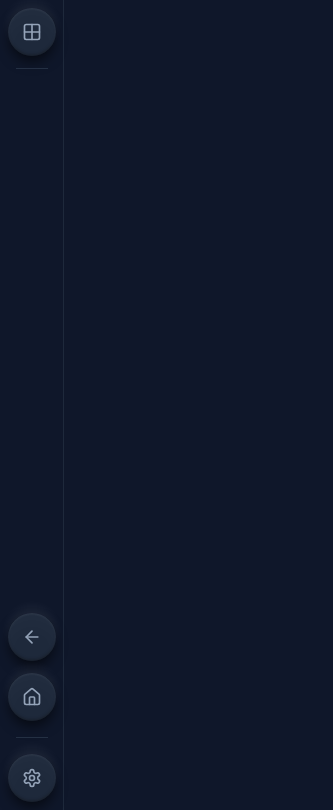
it: ControlSidebar 车机工效与视觉 Tokens 规范验收 › 展开设置二级弹窗拓宽至 w-64，且每个设置项均为 >= 48px List Row 整行触控
The width and height of the screenshot is (333, 810).
点击设置按钮展开面板
What coordinates should you click on to do the following:
click the button named "侧栏设置"
I would click on:
 (32, 778)
Its box is [8,754,56,802].
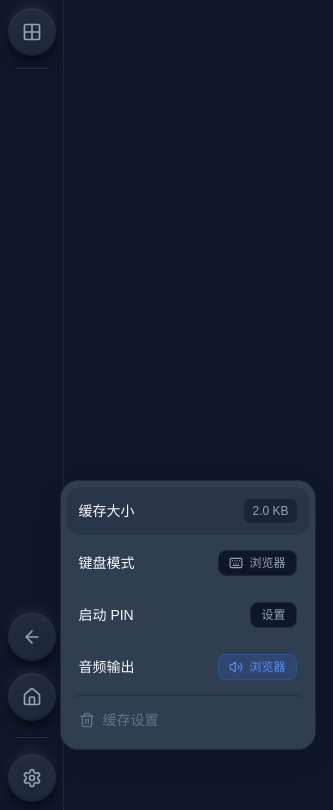
Check: the text "缓存大小" is shown, box [78,503,134,519]
Check: the button "键盘模式 浏览器" is shown, box [66,539,308,587]
Check: the button "音频输出 浏览器" is shown, box [66,643,308,691]
